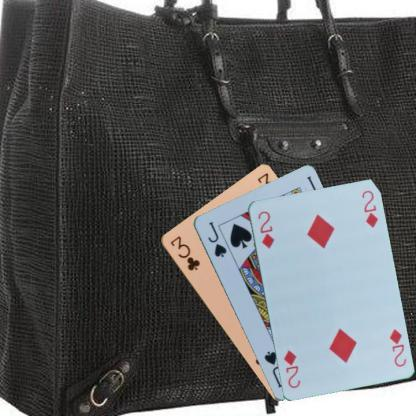2d: (254, 208, 275, 250), (387, 326, 408, 368)
3c: (168, 233, 201, 272)
Js: (205, 218, 228, 259)
